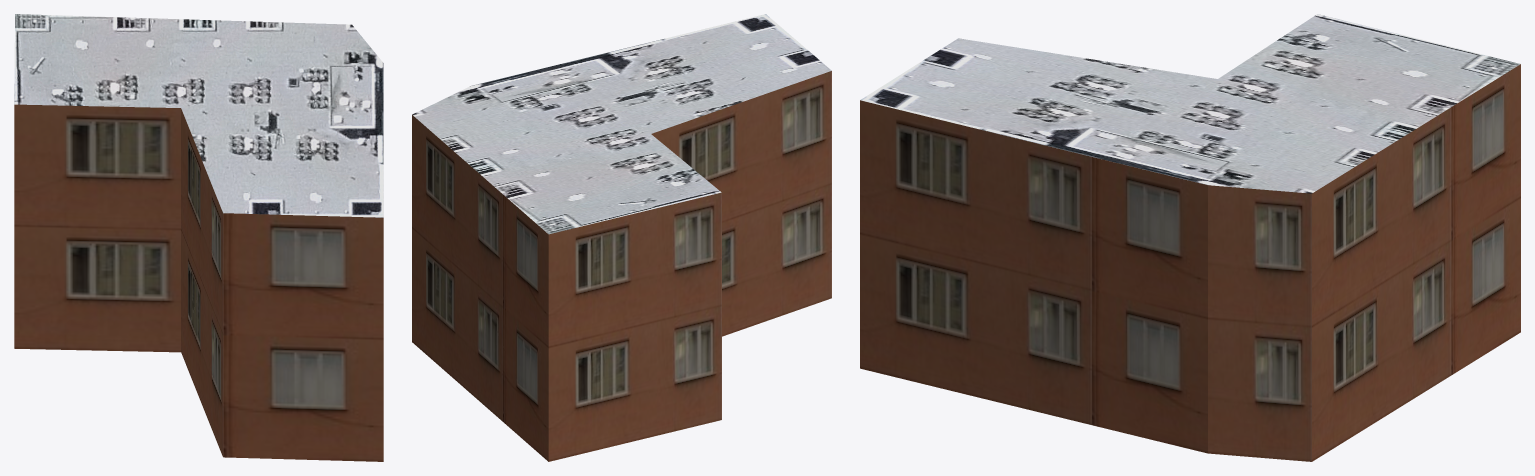
File: ResTex__4861.fbx
The picture shows the model from 3 angles, left to right: view 1: azimuth 30°, elevation 25°; view 2: azimuth 150°, elevation 25°; view 3: azimuth 270°, elevation 25°; orthographic projection. The views are drawn at different scales.
Parts seen in each view (by area): view 1: CityEngineMaterial_20_m, CityEngineMaterial_4_m; view 2: CityEngineMaterial_20_m, CityEngineMaterial_4_m; view 3: CityEngineMaterial_20_m, CityEngineMaterial_4_m.
Boxes of the visible parts, box(x1,y1,x2,y2) form: CityEngineMaterial_20_m: box(14, 104, 383, 461); CityEngineMaterial_4_m: box(14, 14, 383, 217); CityEngineMaterial_20_m: box(412, 71, 831, 461); CityEngineMaterial_4_m: box(412, 14, 831, 234); CityEngineMaterial_20_m: box(860, 64, 1520, 461); CityEngineMaterial_4_m: box(860, 14, 1520, 193).
Size of the model in its own units: 8.62 by 6 by 13.4.
2 materials, 2 textured.
